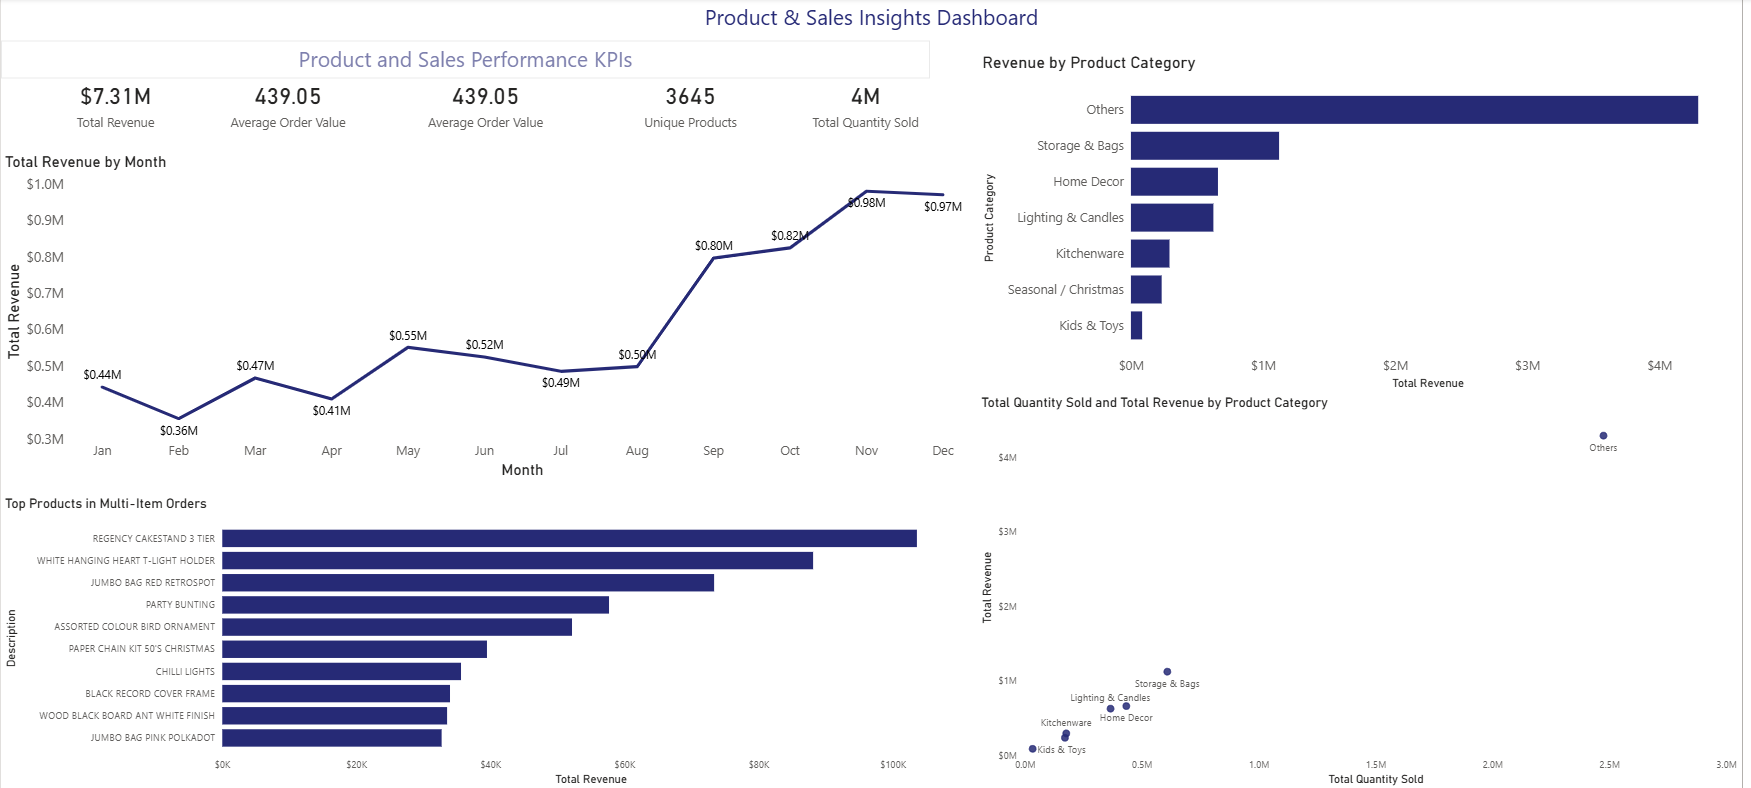

The dashboard page shown, as its layout file describes it:
{"tool":"powerbi","page":{"name":"Product & Sales Insights Dashboard","canvas":[2200,1000],"ordinal":2},"visuals":[{"type":"card","fields":{"Values":["cleaned_data.Total Revenue"]},"box":[0,70,290,126],"z":0},{"type":"card","fields":{"Values":["cleaned_data.Average Order Value"]},"box":[218,70,290,126],"z":1000},{"type":"card","fields":{"Values":["cleaned_data.Total Products Sold"]},"box":[726,70,290,126],"z":2000},{"type":"card","fields":{"Values":["cleaned_data.Total Quantity Sold"]},"box":[948,70,290,126],"z":3000},{"type":"card","fields":{"Values":["cleaned_data.Average Order Value"]},"box":[468,70,290,126],"z":4000},{"type":"lineChart","fields":{"Category":["cleaned_data.Month"],"Y":["cleaned_data.Total Revenue"]},"box":[0,196,1234,416],"z":5000},{"type":"clusteredBarChart","title":"Revenue by Product Category","fields":{"Y":["cleaned_data.Total Revenue"],"Category":["cleaned_data.Product Category"]},"box":[1235,70,965,430],"z":6000},{"type":"scatterChart","fields":{"X":["cleaned_data.Total Quantity Sold"],"Y":["cleaned_data.Total Revenue"],"Category":["cleaned_data.Product Category"]},"box":[1234,500,966,500],"z":7000},{"type":"clusteredBarChart","title":"Top Products in Multi-Item Orders","fields":{"Category":["cleaned_data.Description"],"Y":["cleaned_data.Total Revenue"]},"box":[0,628,1234,372],"z":8000},{"type":"textbox","box":[0,0,2200,54],"z":9000},{"type":"textbox","box":[0,54,1174,48],"z":10000}]}

Visuals, with their boxes in screenshot pixels (x1, y1, x2, y2), scaled from the page's 2200x1000 canvas onto the 1751x788 screenshot:
card - cleaned_data.Total Revenue: locate(0, 55, 231, 154)
card - cleaned_data.Average Order Value: locate(174, 55, 404, 154)
card - cleaned_data.Total Products Sold: locate(578, 55, 809, 154)
card - cleaned_data.Total Quantity Sold: locate(755, 55, 985, 154)
card - cleaned_data.Average Order Value: locate(372, 55, 603, 154)
lineChart - cleaned_data.Month x cleaned_data.Total Revenue: locate(0, 154, 982, 482)
"Revenue by Product Category" clusteredBarChart: locate(983, 55, 1750, 394)
scatterChart - cleaned_data.Total Quantity Sold x cleaned_data.Total Revenue: locate(982, 394, 1750, 787)
"Top Products in Multi-Item Orders" clusteredBarChart: locate(0, 495, 982, 787)
textbox: locate(0, 0, 1750, 43)
textbox: locate(0, 43, 934, 80)
